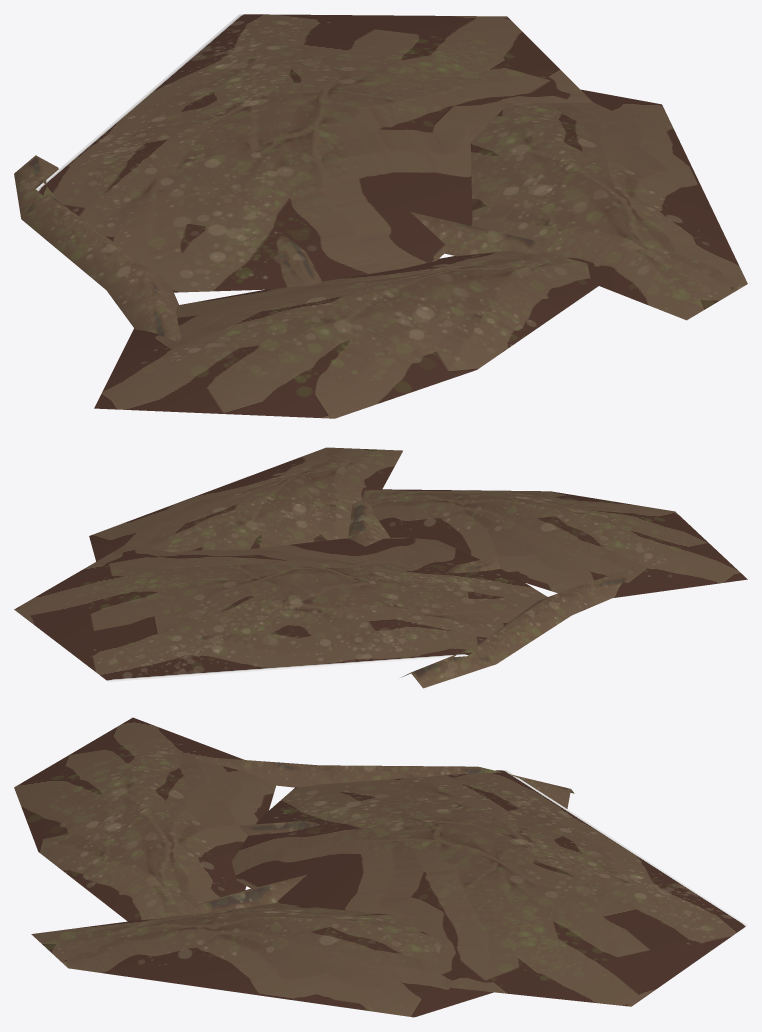
File: MSH_fwOF_WoodDebris_04.fbx
The picture shows the model from 3 angles, top to bottom: view 1: azimuth 30°, elevation 25°; view 2: azimuth 150°, elevation 25°; view 3: azimuth 270°, elevation 25°; orthographic projection. The views are drawn at different scales.
Visible parts, largest first — view 1: MSH_fwOF_WoodDebris_04; view 2: MSH_fwOF_WoodDebris_04; view 3: MSH_fwOF_WoodDebris_04.
Boxes of the visible parts, x1=… form: MSH_fwOF_WoodDebris_04: x1=14, y1=14, x2=747, y2=418; MSH_fwOF_WoodDebris_04: x1=14, y1=447, x2=747, y2=688; MSH_fwOF_WoodDebris_04: x1=14, y1=717, x2=747, y2=1017.
Bounding box in the file's own units: 0.8443 × 0.0704 × 0.8668.
